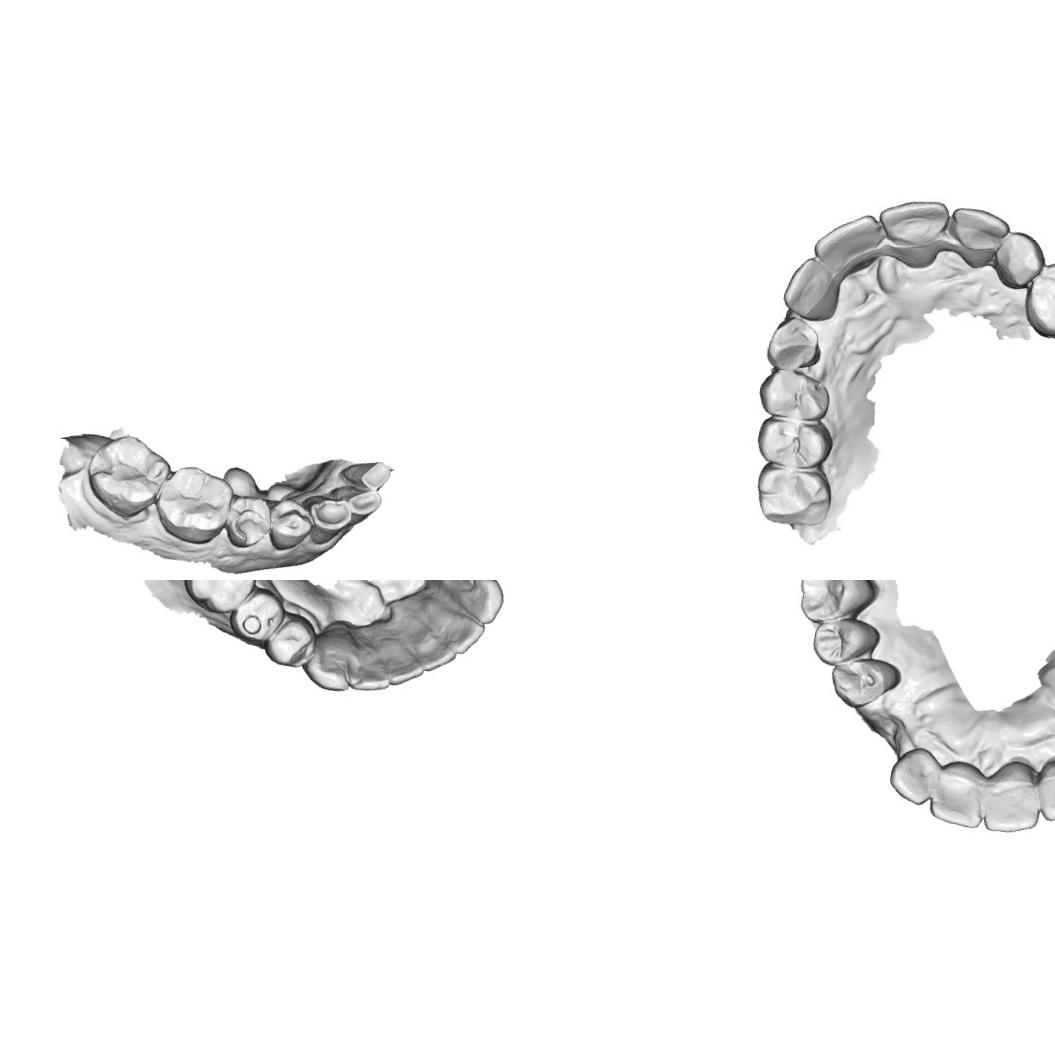canine: (298, 621, 365, 696), (991, 225, 1050, 293), (433, 580, 509, 628), (765, 313, 824, 373), (297, 490, 355, 550)
incisor: (870, 189, 950, 273), (938, 201, 1013, 279), (980, 756, 1048, 839), (810, 204, 886, 278), (926, 756, 991, 831), (342, 623, 402, 696), (373, 621, 433, 692), (782, 254, 841, 326), (885, 742, 940, 808), (432, 609, 488, 660), (404, 624, 458, 676), (325, 482, 383, 529), (338, 455, 392, 494), (1030, 756, 1055, 827)
molar: (81, 429, 176, 526), (150, 458, 238, 549), (746, 459, 844, 536), (794, 580, 881, 631), (178, 580, 262, 620)
premolar: (752, 413, 838, 477), (752, 362, 834, 427), (826, 651, 900, 714), (808, 612, 882, 673), (225, 582, 290, 649), (262, 608, 322, 672), (222, 492, 276, 552), (1019, 257, 1055, 343), (265, 496, 316, 555)
